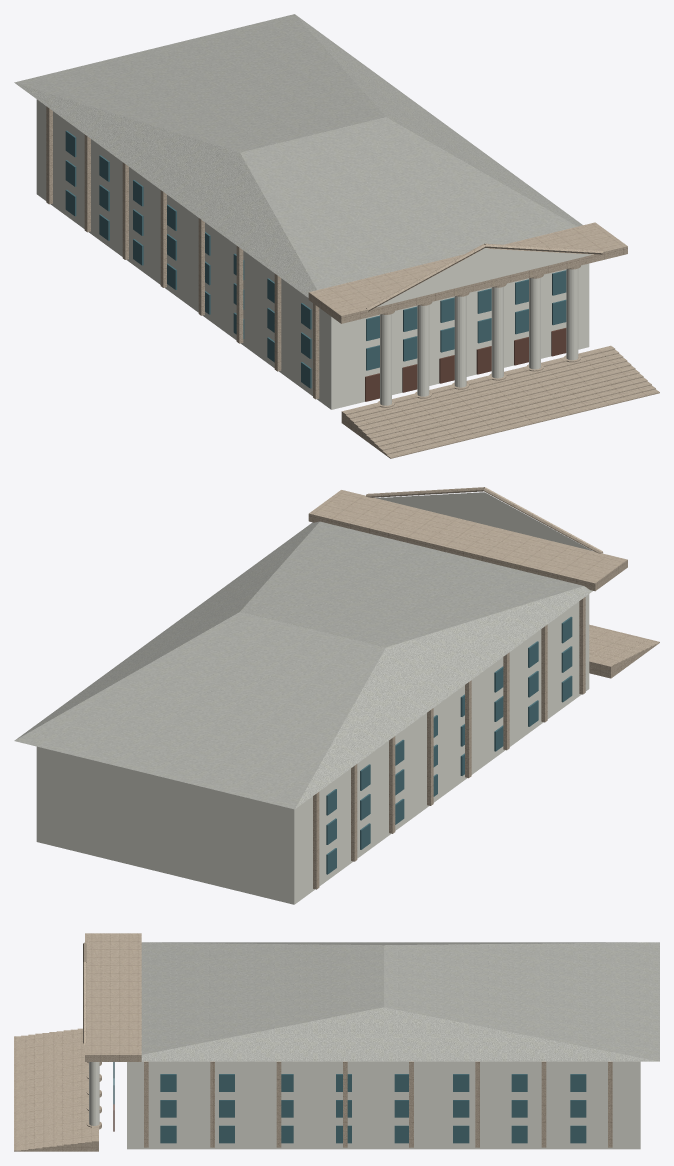
The model's file is auditorium.glb.
3 views of the same model, one above another, from view 1: azimuth 30°, elevation 25°; view 2: azimuth 150°, elevation 25°; view 3: azimuth 270°, elevation 25° (orthographic). The views are drawn at different scales.
Visible parts, largest first — view 1: landmark-auditorium; view 2: landmark-auditorium; view 3: landmark-auditorium.
Boxes of the visible parts, x1,y1,x2,y2 form: landmark-auditorium: [14, 14, 659, 458]; landmark-auditorium: [14, 487, 659, 904]; landmark-auditorium: [14, 933, 659, 1151].
Size of the model in its own units: 30.47 by 15.47 by 68.33.
5 materials, 2 textured.
